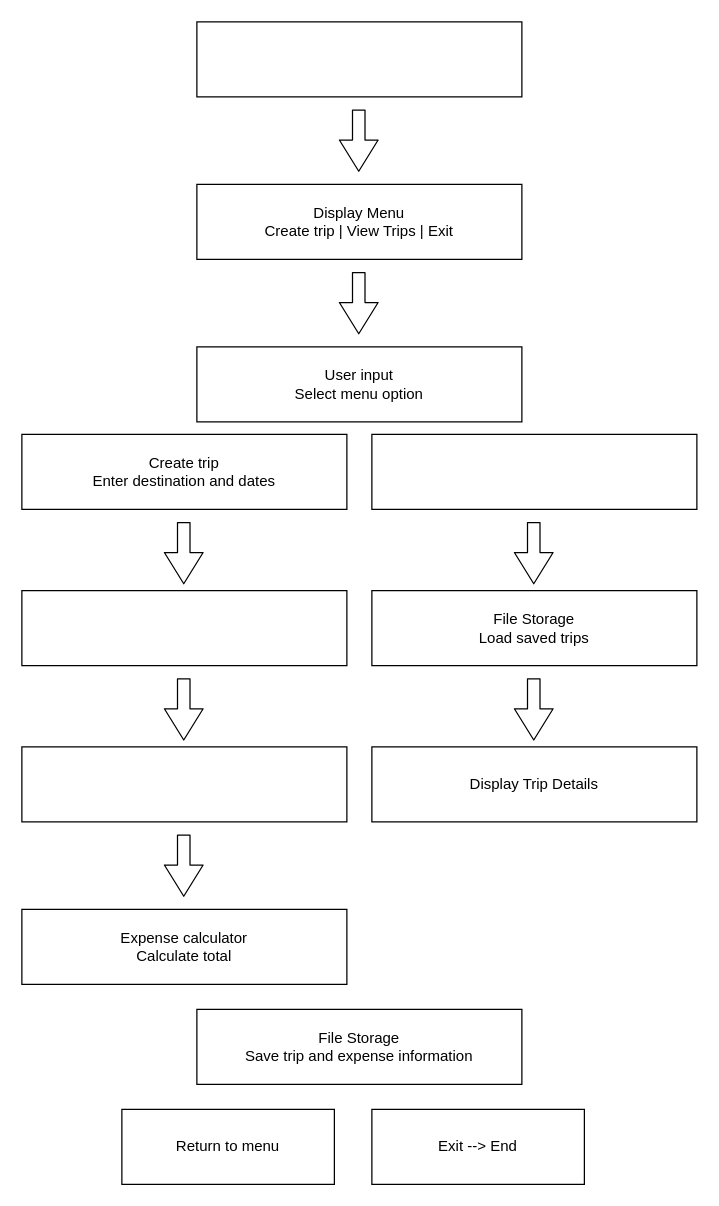
Image size: 719x1206. Some labels were removed from this diagram. The centre of each missing label's shape, as x and y in pixels:
Activity Class Store activities and costs: (184,784)
START Main.java: (359,59)
Trip class Store trip details: (184,627)
View trips Display saved trips: (534,471)
